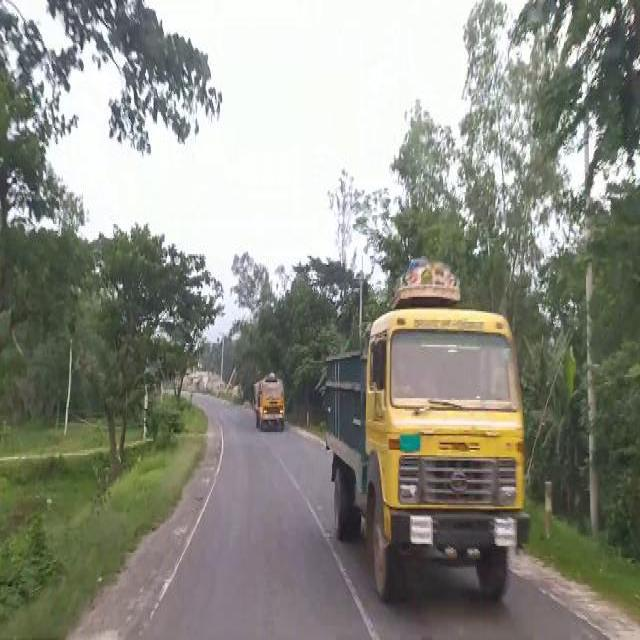truck: (322, 256, 536, 604), (251, 373, 285, 434)
